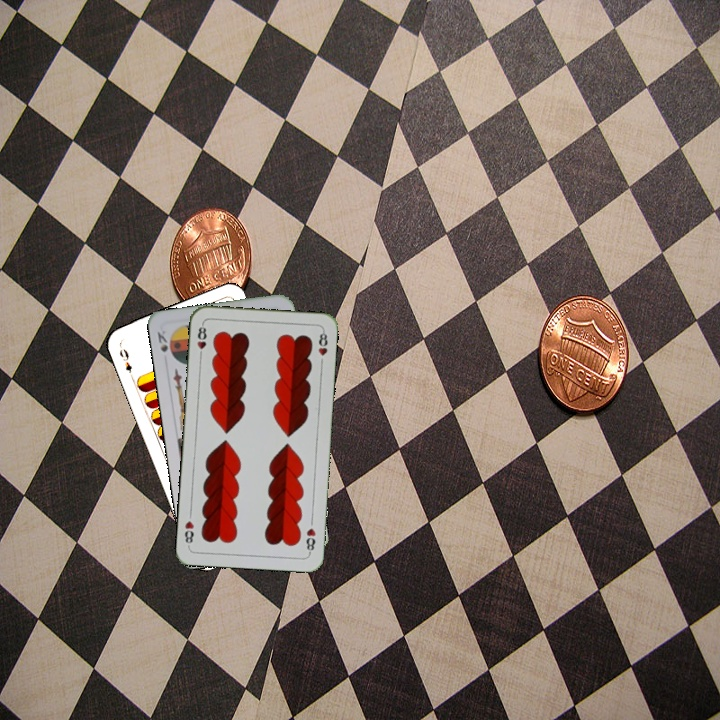E9: (115, 341, 136, 381)
H8: (193, 320, 209, 360), (302, 524, 318, 556)
SK: (153, 326, 170, 355)
